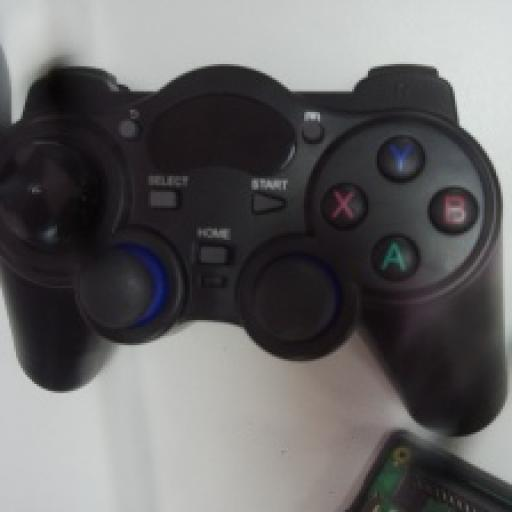game pad: (0, 66, 505, 432)
